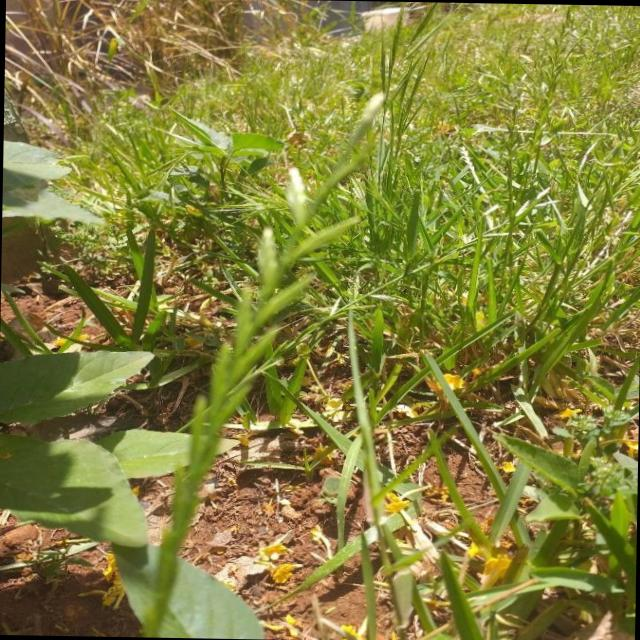Lolium: (136, 92, 386, 640), (517, 151, 640, 374), (366, 16, 431, 300), (492, 154, 544, 338), (522, 3, 580, 154)
